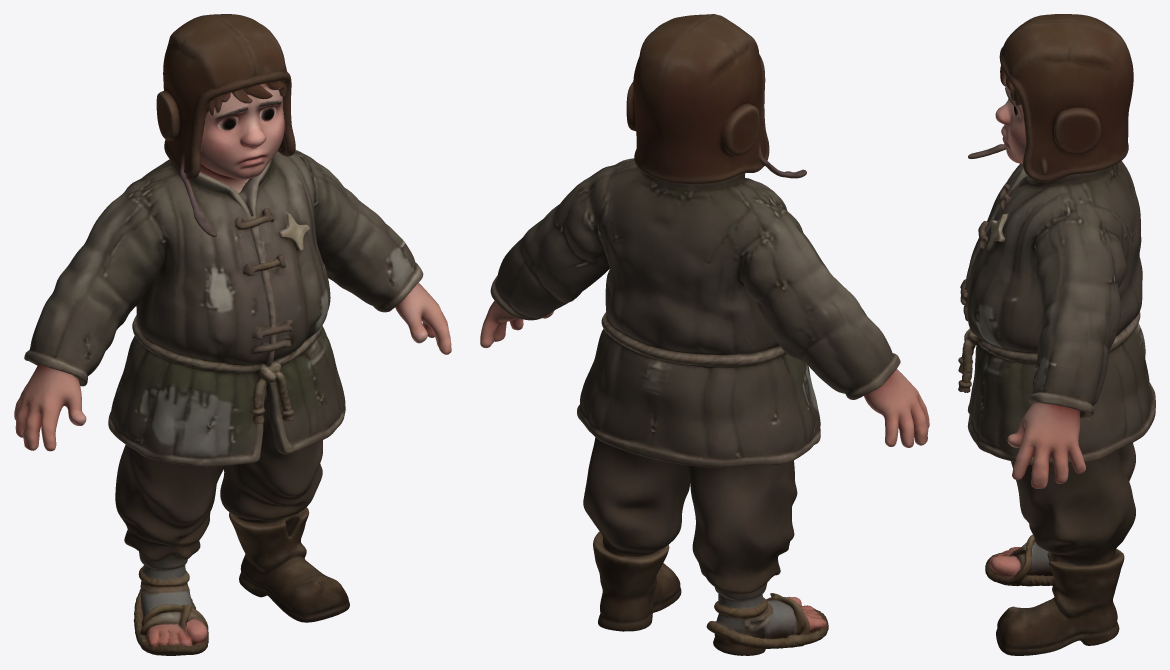
File: tank_trellis.glb
The picture shows the model from 3 angles, left to right: view 1: azimuth 30°, elevation 25°; view 2: azimuth 150°, elevation 25°; view 3: azimuth 270°, elevation 25°; orthographic projection. The views are drawn at different scales.
Parts seen in each view (by area): view 1: world; view 2: world; view 3: world.
Part boxes in pixels (<box>): world: <box>14,14,451,655</box>; world: <box>480,14,929,655</box>; world: <box>958,14,1155,655</box>.
Size of the model in its own units: 0.7535 by 1 by 0.3055.
Materials: 1 (1 with a texture image).
